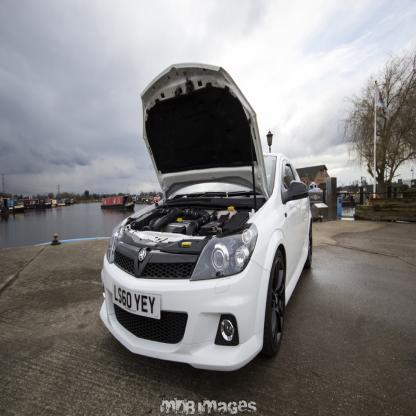Car: (98, 80, 312, 374)
